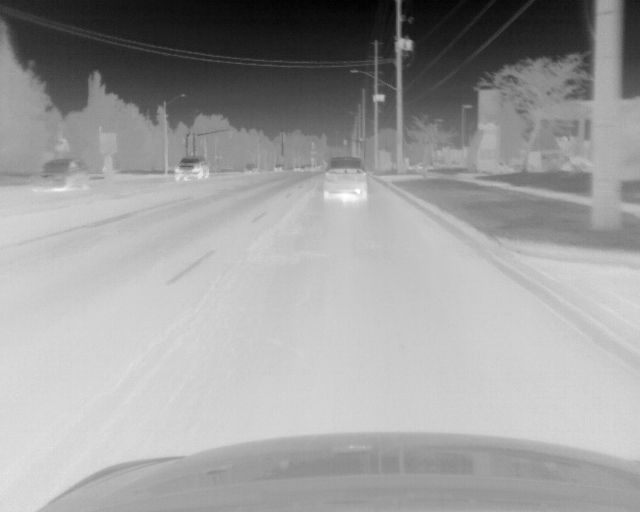car: (27, 159, 86, 192), (324, 159, 368, 200), (173, 157, 208, 181), (245, 165, 257, 173)
